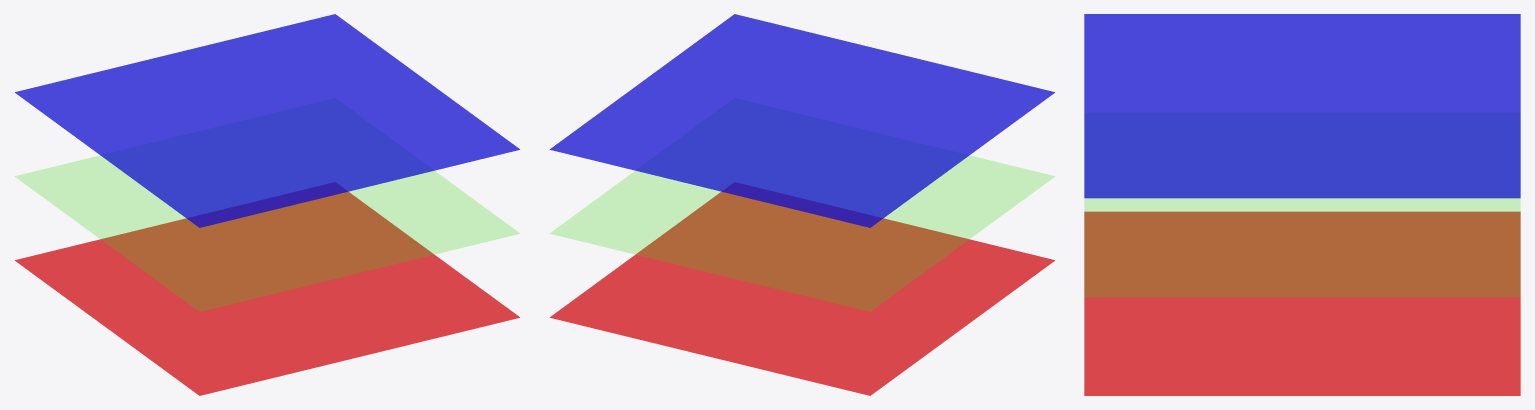
The model's file is blendtest.glb.
The picture shows the model from 3 angles, left to right: view 1: azimuth 30°, elevation 25°; view 2: azimuth 150°, elevation 25°; view 3: azimuth 270°, elevation 25°; orthographic projection. The views are drawn at different scales.
Visible parts, largest first — view 1: Plane.003, Plane, Plane.001; view 2: Plane.003, Plane, Plane.001; view 3: Plane.003, Plane, Plane.001.
Boxes of the visible parts, <box> form: Plane.003: <box>15,14,519,227</box>; Plane: <box>15,192,519,395</box>; Plane.001: <box>15,156,519,311</box>; Plane.003: <box>550,14,1054,227</box>; Plane: <box>550,192,1054,395</box>; Plane.001: <box>550,156,1054,311</box>; Plane.003: <box>1084,14,1520,198</box>; Plane: <box>1084,211,1520,395</box>; Plane.001: <box>1084,198,1520,296</box>.
Size of the model in its own units: 2 by 1 by 2.
